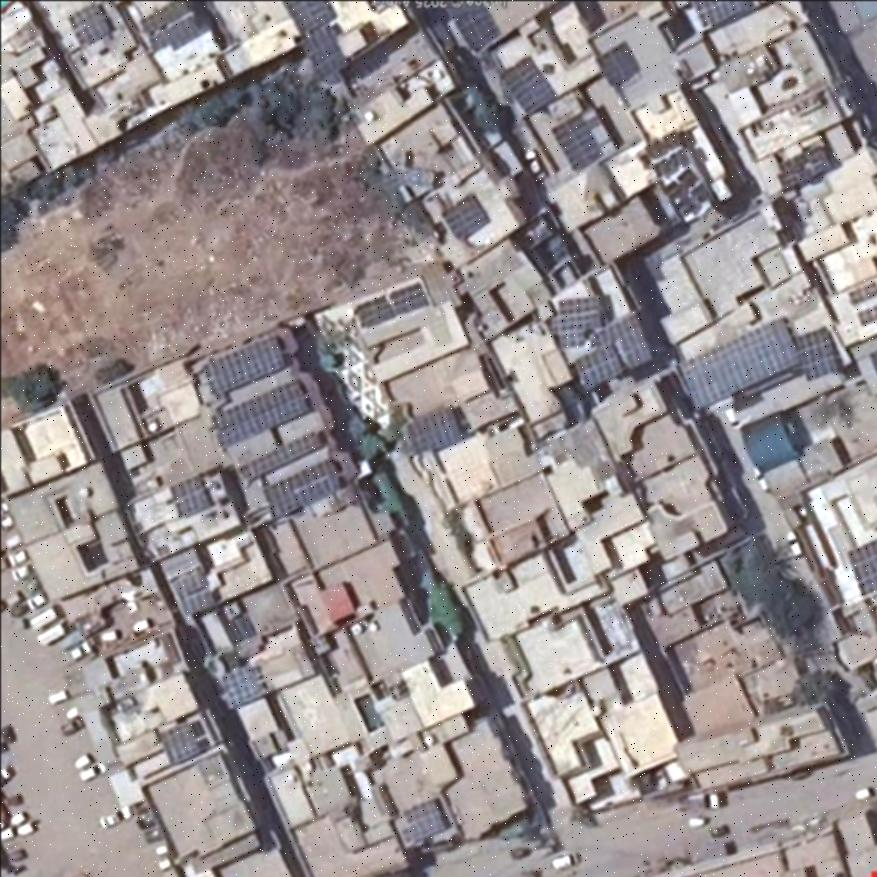Solarpanel: (679, 318, 798, 411), (213, 382, 311, 452), (569, 312, 653, 391), (266, 456, 346, 517), (206, 335, 285, 396), (244, 428, 324, 473), (358, 281, 426, 328), (502, 54, 557, 110), (141, 1, 199, 54), (790, 325, 843, 381), (551, 115, 604, 171), (301, 26, 347, 79), (410, 406, 459, 453), (558, 293, 601, 345), (395, 799, 444, 844), (439, 195, 488, 239), (453, 5, 500, 48), (847, 537, 877, 595), (168, 476, 210, 516), (283, 1, 336, 32), (689, 1, 757, 25), (68, 6, 108, 42), (221, 667, 255, 709), (162, 726, 201, 762)
